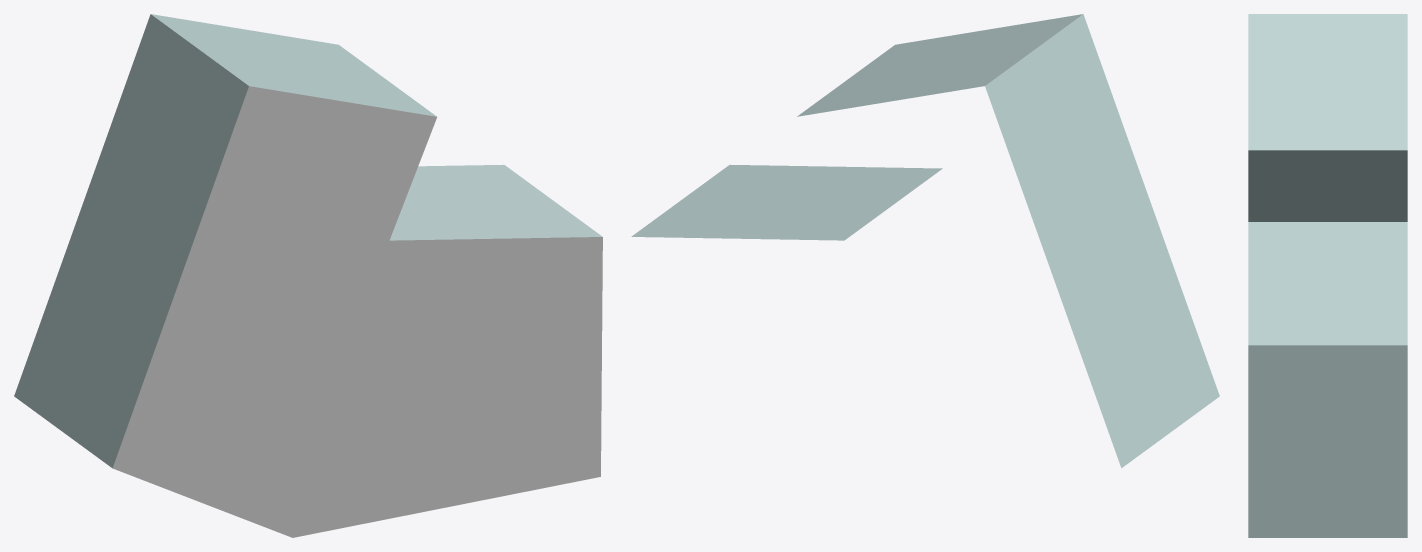
3 renders of one model, left to right at view 1: azimuth 30°, elevation 25°; view 2: azimuth 150°, elevation 25°; view 3: azimuth 270°, elevation 25°, orthographic. The views are drawn at different scales.
Parts seen in each view (by area): view 1: 0_3_2_1_2_3_3_1_3; view 2: 0_3_2_1_2_3_3_1_3; view 3: 0_3_2_1_2_3_3_1_3.
Part boxes in pixels (x1=…): 0_3_2_1_2_3_3_1_3: x1=14, y1=14, x2=602, y2=537; 0_3_2_1_2_3_3_1_3: x1=631, y1=14, x2=1219, y2=468; 0_3_2_1_2_3_3_1_3: x1=1248, y1=14, x2=1407, y2=537.
Bounding box in the file's own units: 8.62 × 8.01 × 3.
